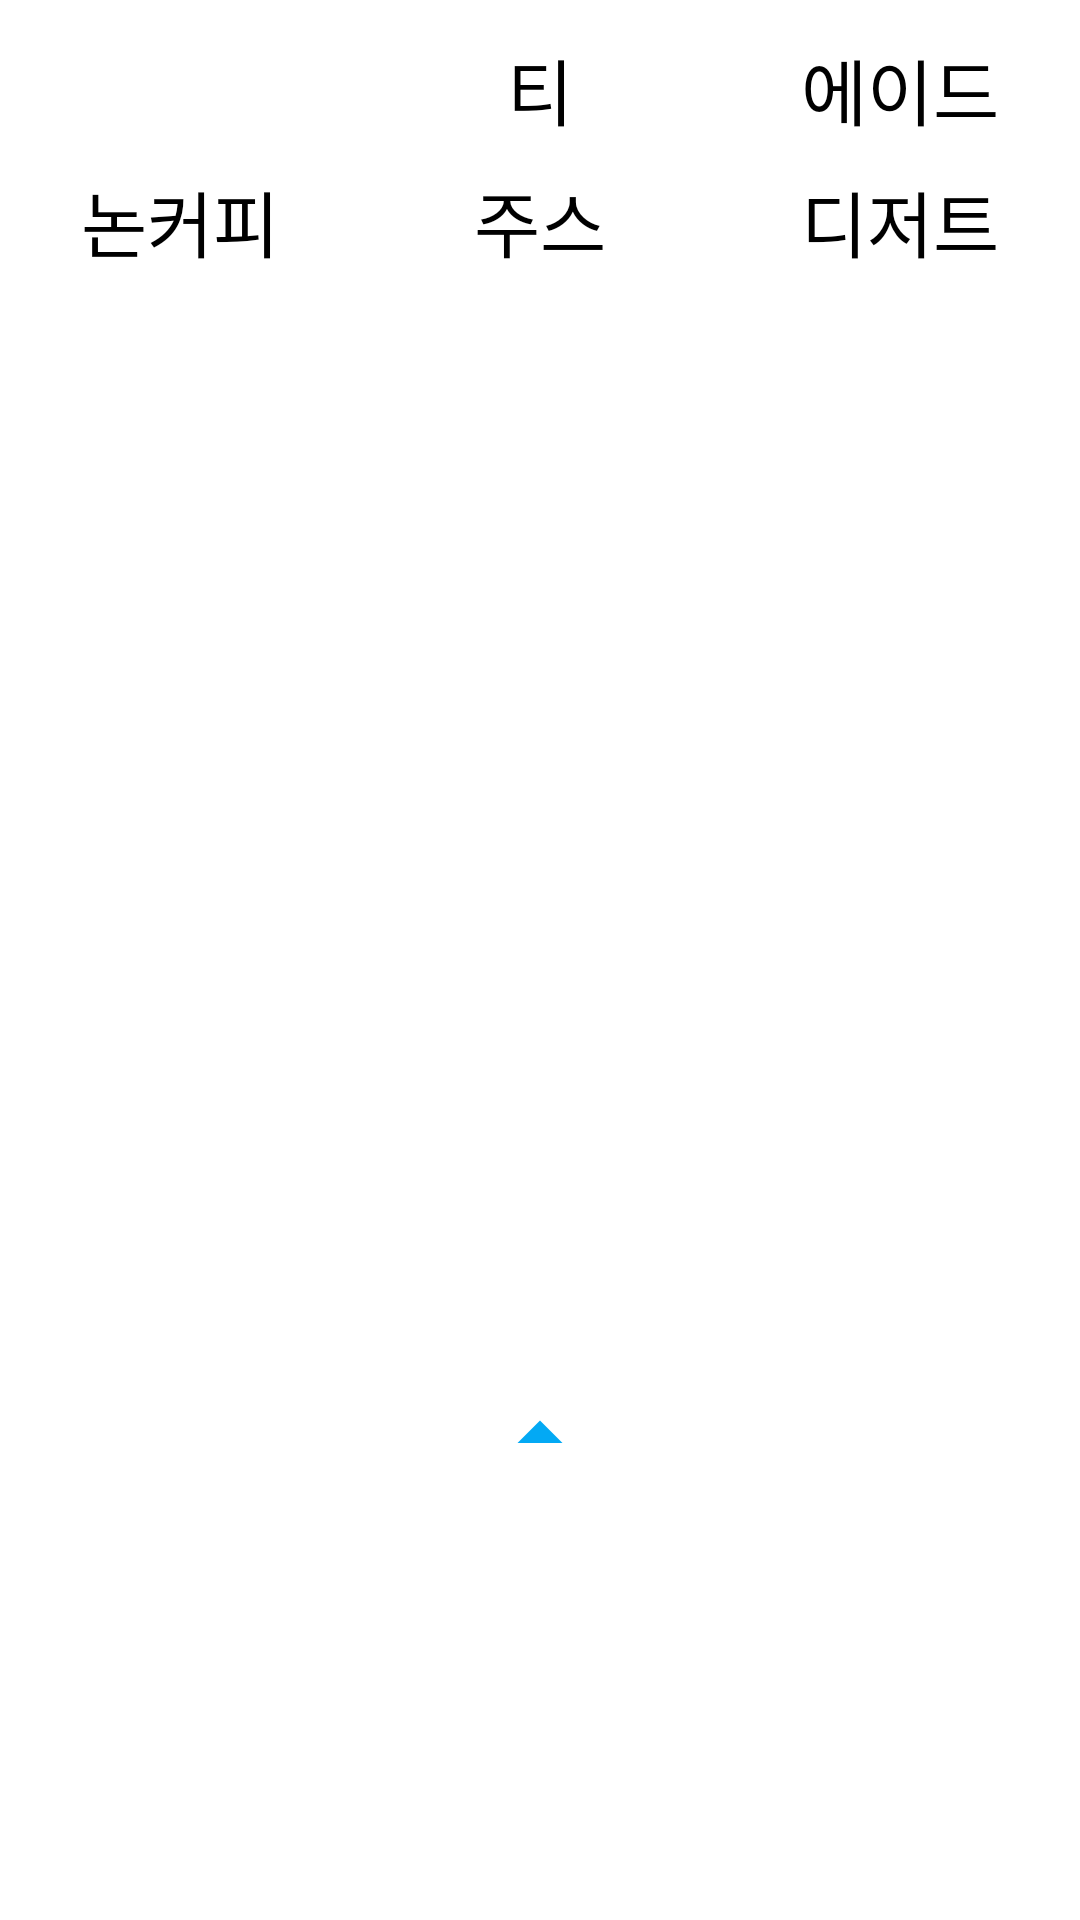

Named icons in this screenshot (1080×1920) and their centers, [x,y]:
arrow drop up: [540,1431]
